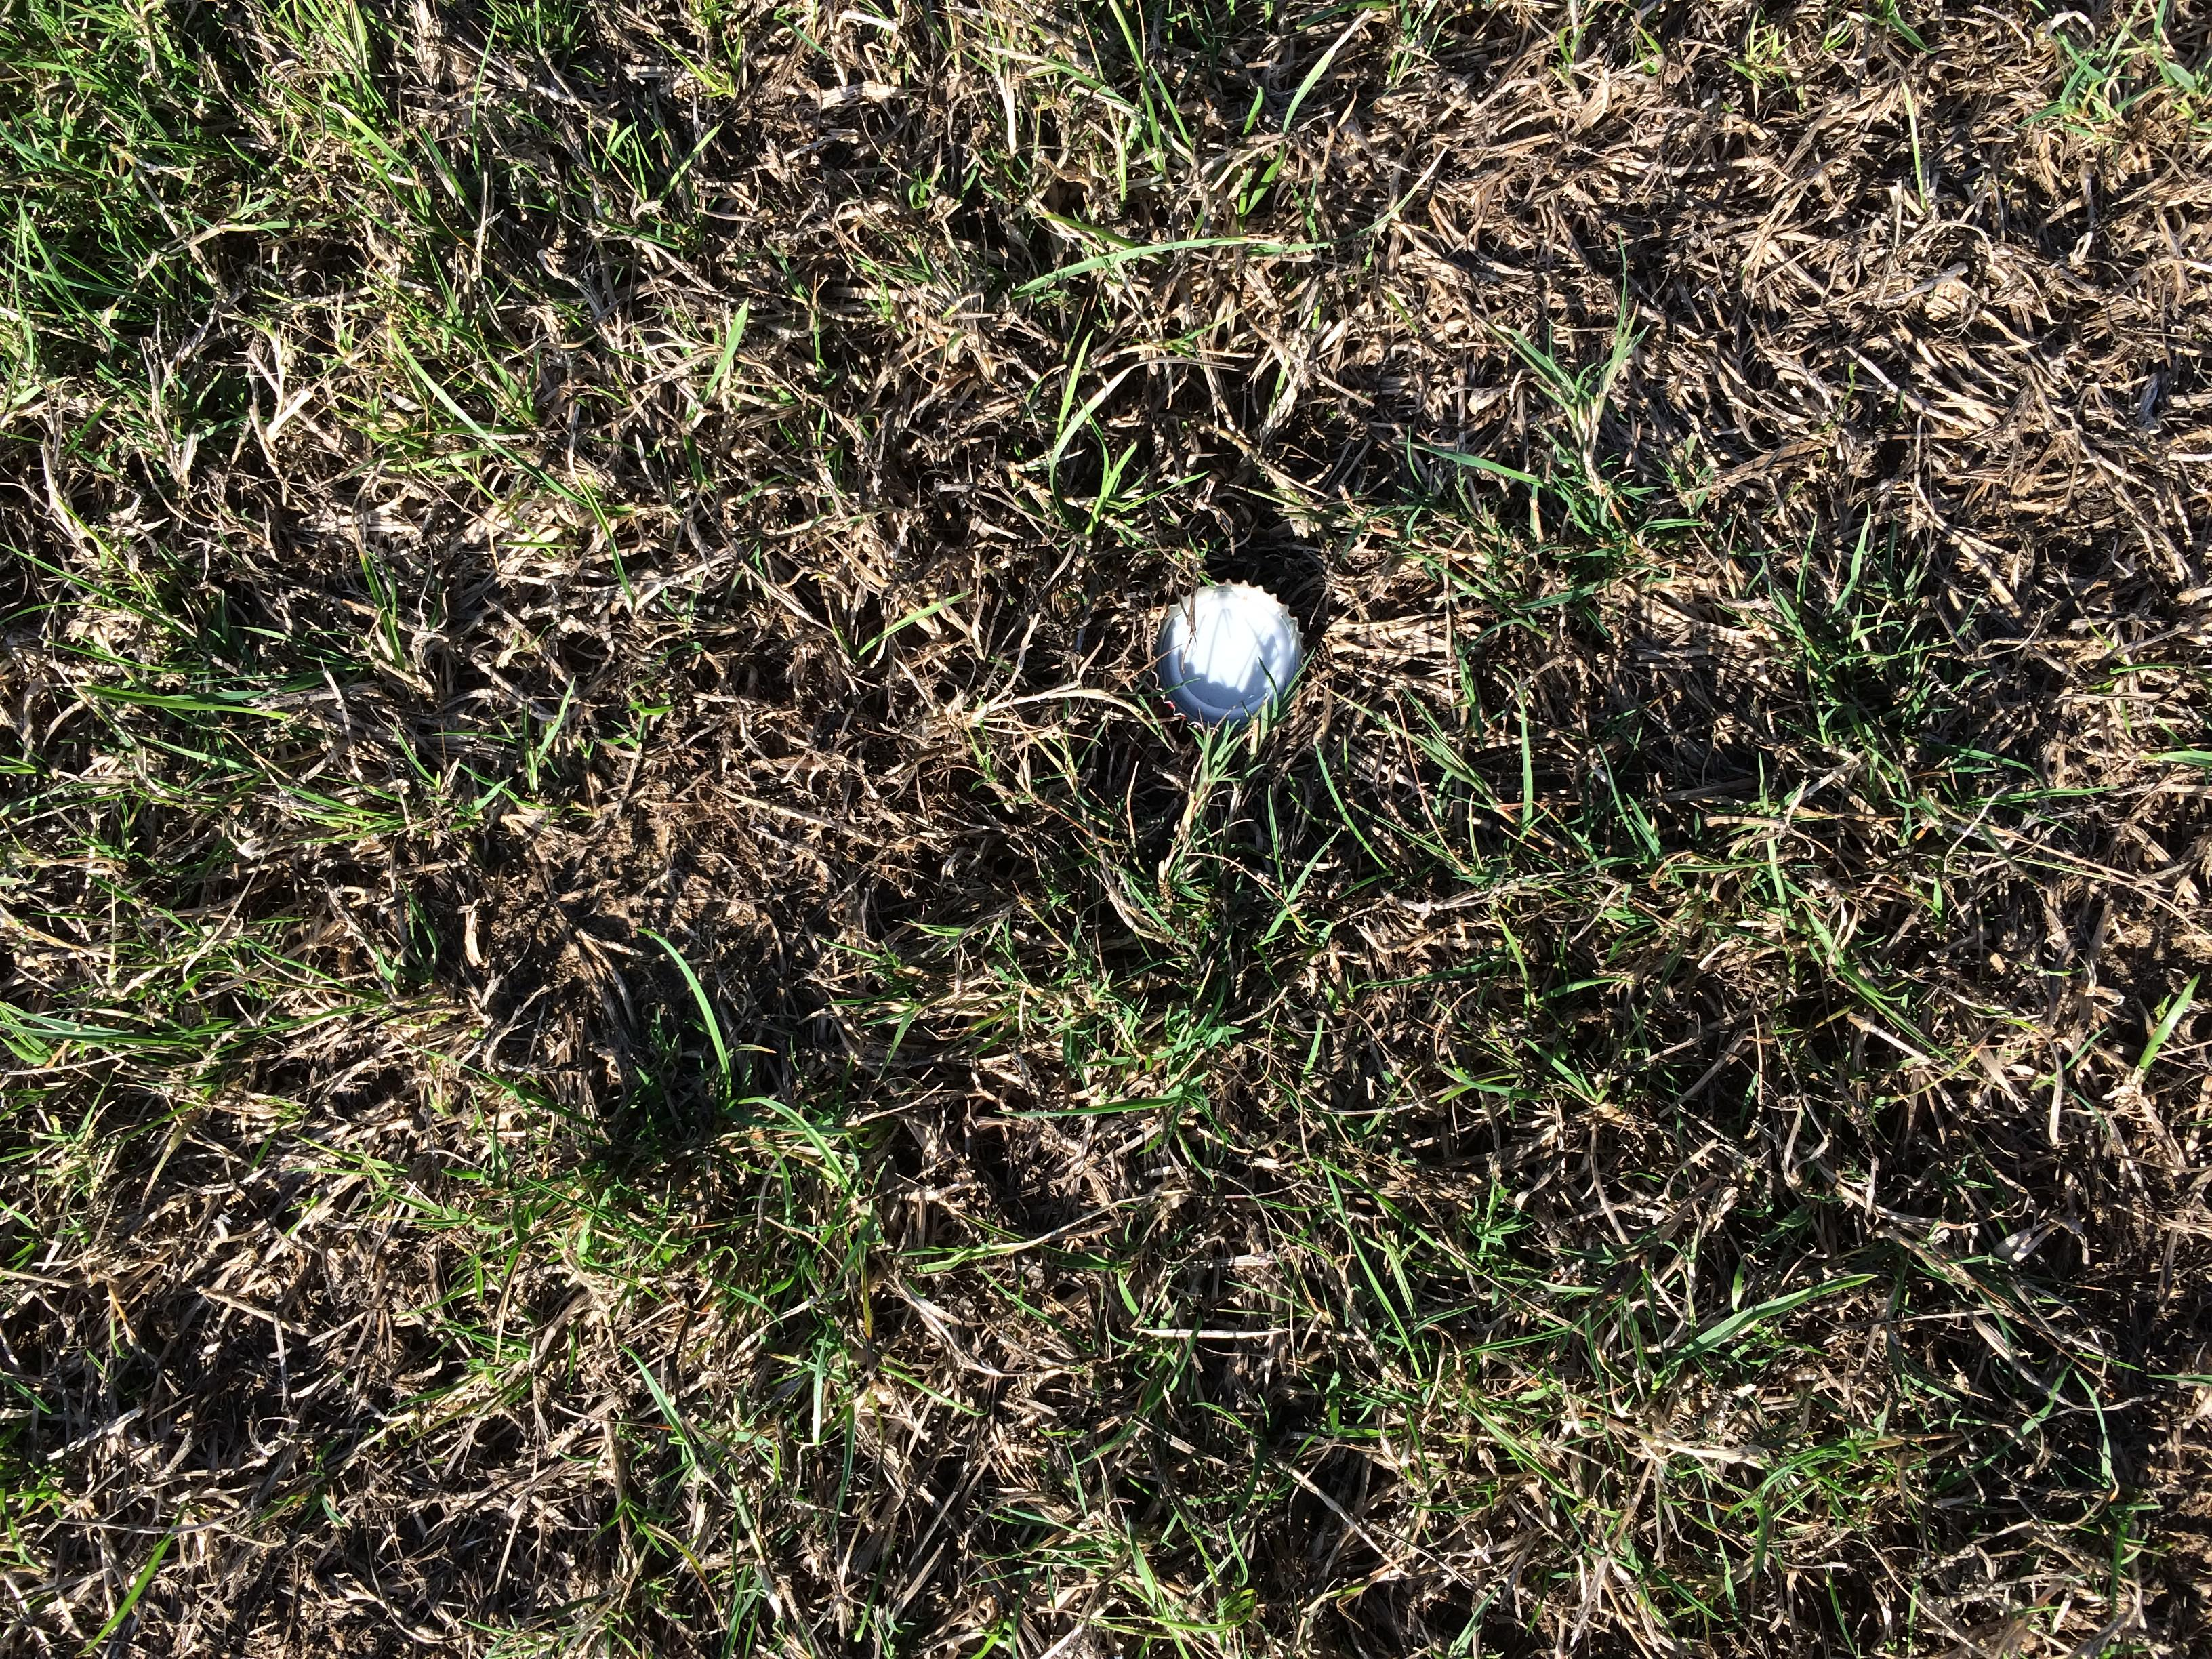Trash: (1153, 579, 1306, 723)
